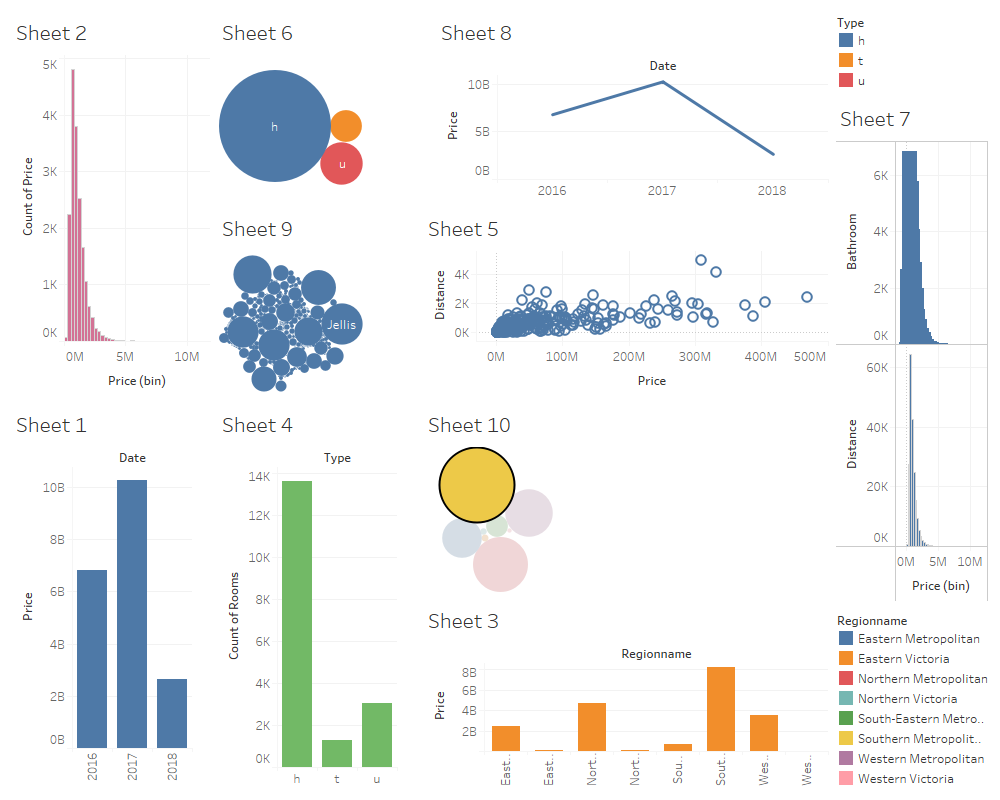

Layout of this report page (visuals, bound fields, positions):
{"tool":"tableau","page":{"name":"Dashboard 1","canvas":[1000,800],"ordinal":0},"visuals":[{"type":"worksheet","title":"Sheet 2","mark":"Automatic","rows":["Price"],"cols":["Price (bin)"],"box":[8,8,206,392]},{"type":"worksheet","title":"Sheet 6","mark":"Circle","box":[214,8,219,196]},{"type":"worksheet","title":"Sheet 8","mark":"Automatic","rows":["Price"],"cols":["Date"],"box":[433,8,399,196]},{"type":"legend","title":"Sheet 6","param":"[federated.0ri9tm81116x1f1067o3e1izc3q5].[none:Type:nk]","box":[832,8,160,86]},{"type":"worksheet","title":"Sheet 7","mark":"Automatic","rows":["Bathroom","Distance"],"cols":["Price (bin)"],"box":[832,94,160,512]},{"type":"worksheet","title":"Sheet 9","mark":"Circle","box":[214,204,206,196]},{"type":"worksheet","title":"Sheet 5","mark":"Automatic","rows":["Distance"],"cols":["Price"],"box":[420,204,412,196]},{"type":"worksheet","title":"Sheet 1","mark":"Bar","rows":["Price"],"cols":["Date"],"box":[8,400,206,392]},{"type":"worksheet","title":"Sheet 4","mark":"Automatic","rows":["Rooms"],"cols":["Type"],"box":[214,400,206,392]},{"type":"worksheet","title":"Sheet 10","mark":"Circle","box":[420,400,412,196]},{"type":"worksheet","title":"Sheet 3","mark":"Automatic","rows":["Price"],"cols":["Regionname"],"box":[420,596,412,196]},{"type":"legend","title":"Sheet 10","param":"[federated.0ri9tm81116x1f1067o3e1izc3q5].[none:Regionname:nk]","box":[832,606,160,186]}]}

Visuals, with their boxes in screenshot pixels (x1, y1, x2, y2), scaled from the page's 1000x800 canvas onto the 1000x800 screenshot:
"Sheet 2" worksheet: select_region(8, 8, 214, 400)
"Sheet 6" worksheet (Circle marks): select_region(214, 8, 433, 204)
"Sheet 8" worksheet: select_region(433, 8, 832, 204)
"Sheet 6" legend: select_region(832, 8, 992, 94)
"Sheet 7" worksheet: select_region(832, 94, 992, 606)
"Sheet 9" worksheet (Circle marks): select_region(214, 204, 420, 400)
"Sheet 5" worksheet: select_region(420, 204, 832, 400)
"Sheet 1" worksheet (Bar marks): select_region(8, 400, 214, 792)
"Sheet 4" worksheet: select_region(214, 400, 420, 792)
"Sheet 10" worksheet (Circle marks): select_region(420, 400, 832, 596)
"Sheet 3" worksheet: select_region(420, 596, 832, 792)
"Sheet 10" legend: select_region(832, 606, 992, 792)
